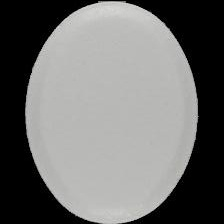0555-0171: (0, 0, 224, 224)
